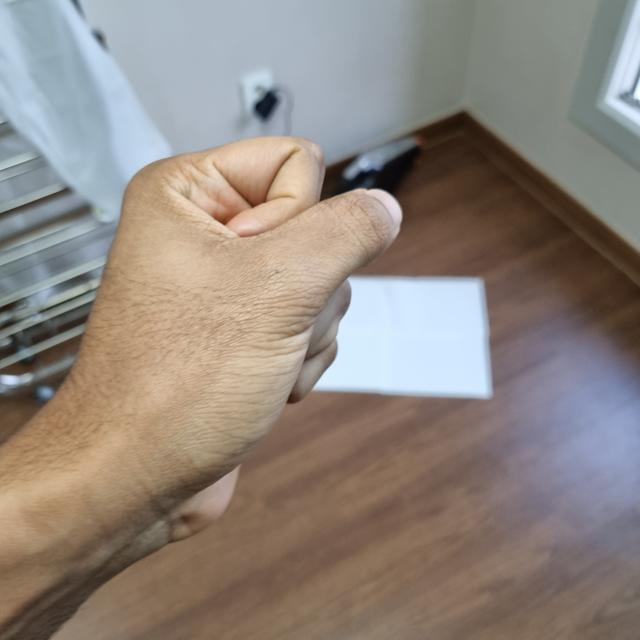Rock: (59, 134, 398, 509)
